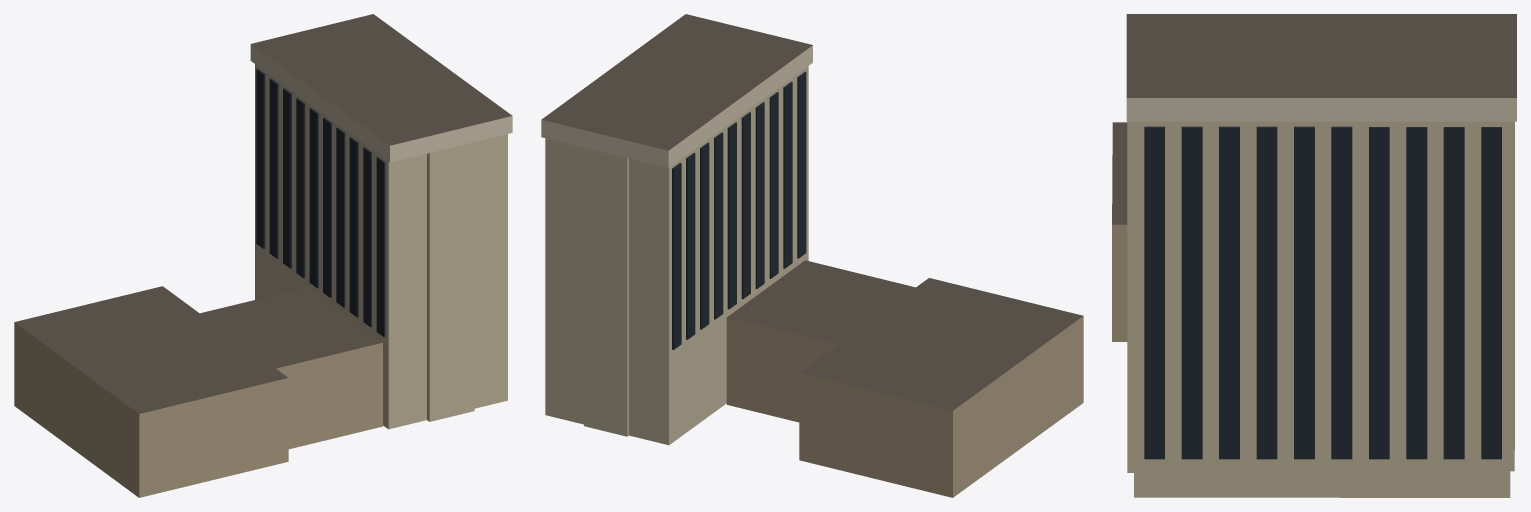
The model's file is broadway_media_building.glb.
3 views of the same model, side by side, from view 1: azimuth 30°, elevation 25°; view 2: azimuth 150°, elevation 25°; view 3: azimuth 270°, elevation 25° (orthographic). The views are drawn at different scales.
Visible parts, largest first — view 1: Broadway_Media_Building; view 2: Broadway_Media_Building; view 3: Broadway_Media_Building.
Part boxes in pixels (bbox=[...]): Broadway_Media_Building: bbox=[14, 14, 512, 497]; Broadway_Media_Building: bbox=[541, 14, 1083, 497]; Broadway_Media_Building: bbox=[1112, 14, 1516, 497].
Bounding box in the file's own units: 70.32 × 50.8 × 46.49.
